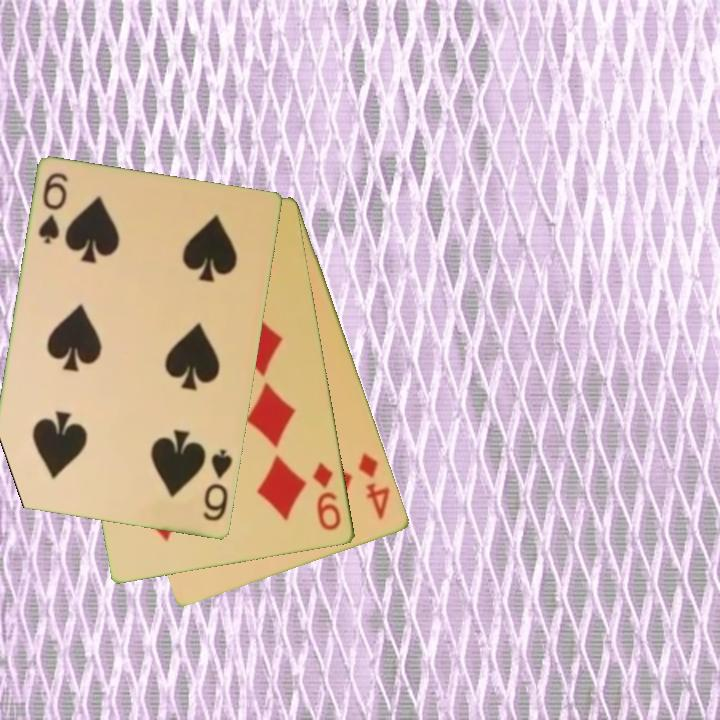4d: (355, 450, 394, 523)
6s: (199, 446, 236, 525), (35, 169, 71, 248)
9d: (310, 458, 344, 534)
